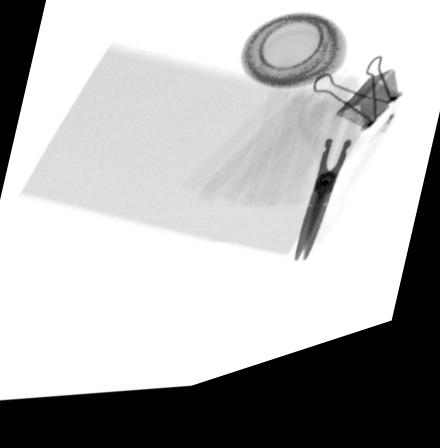Scissors: (294, 104, 386, 280)
